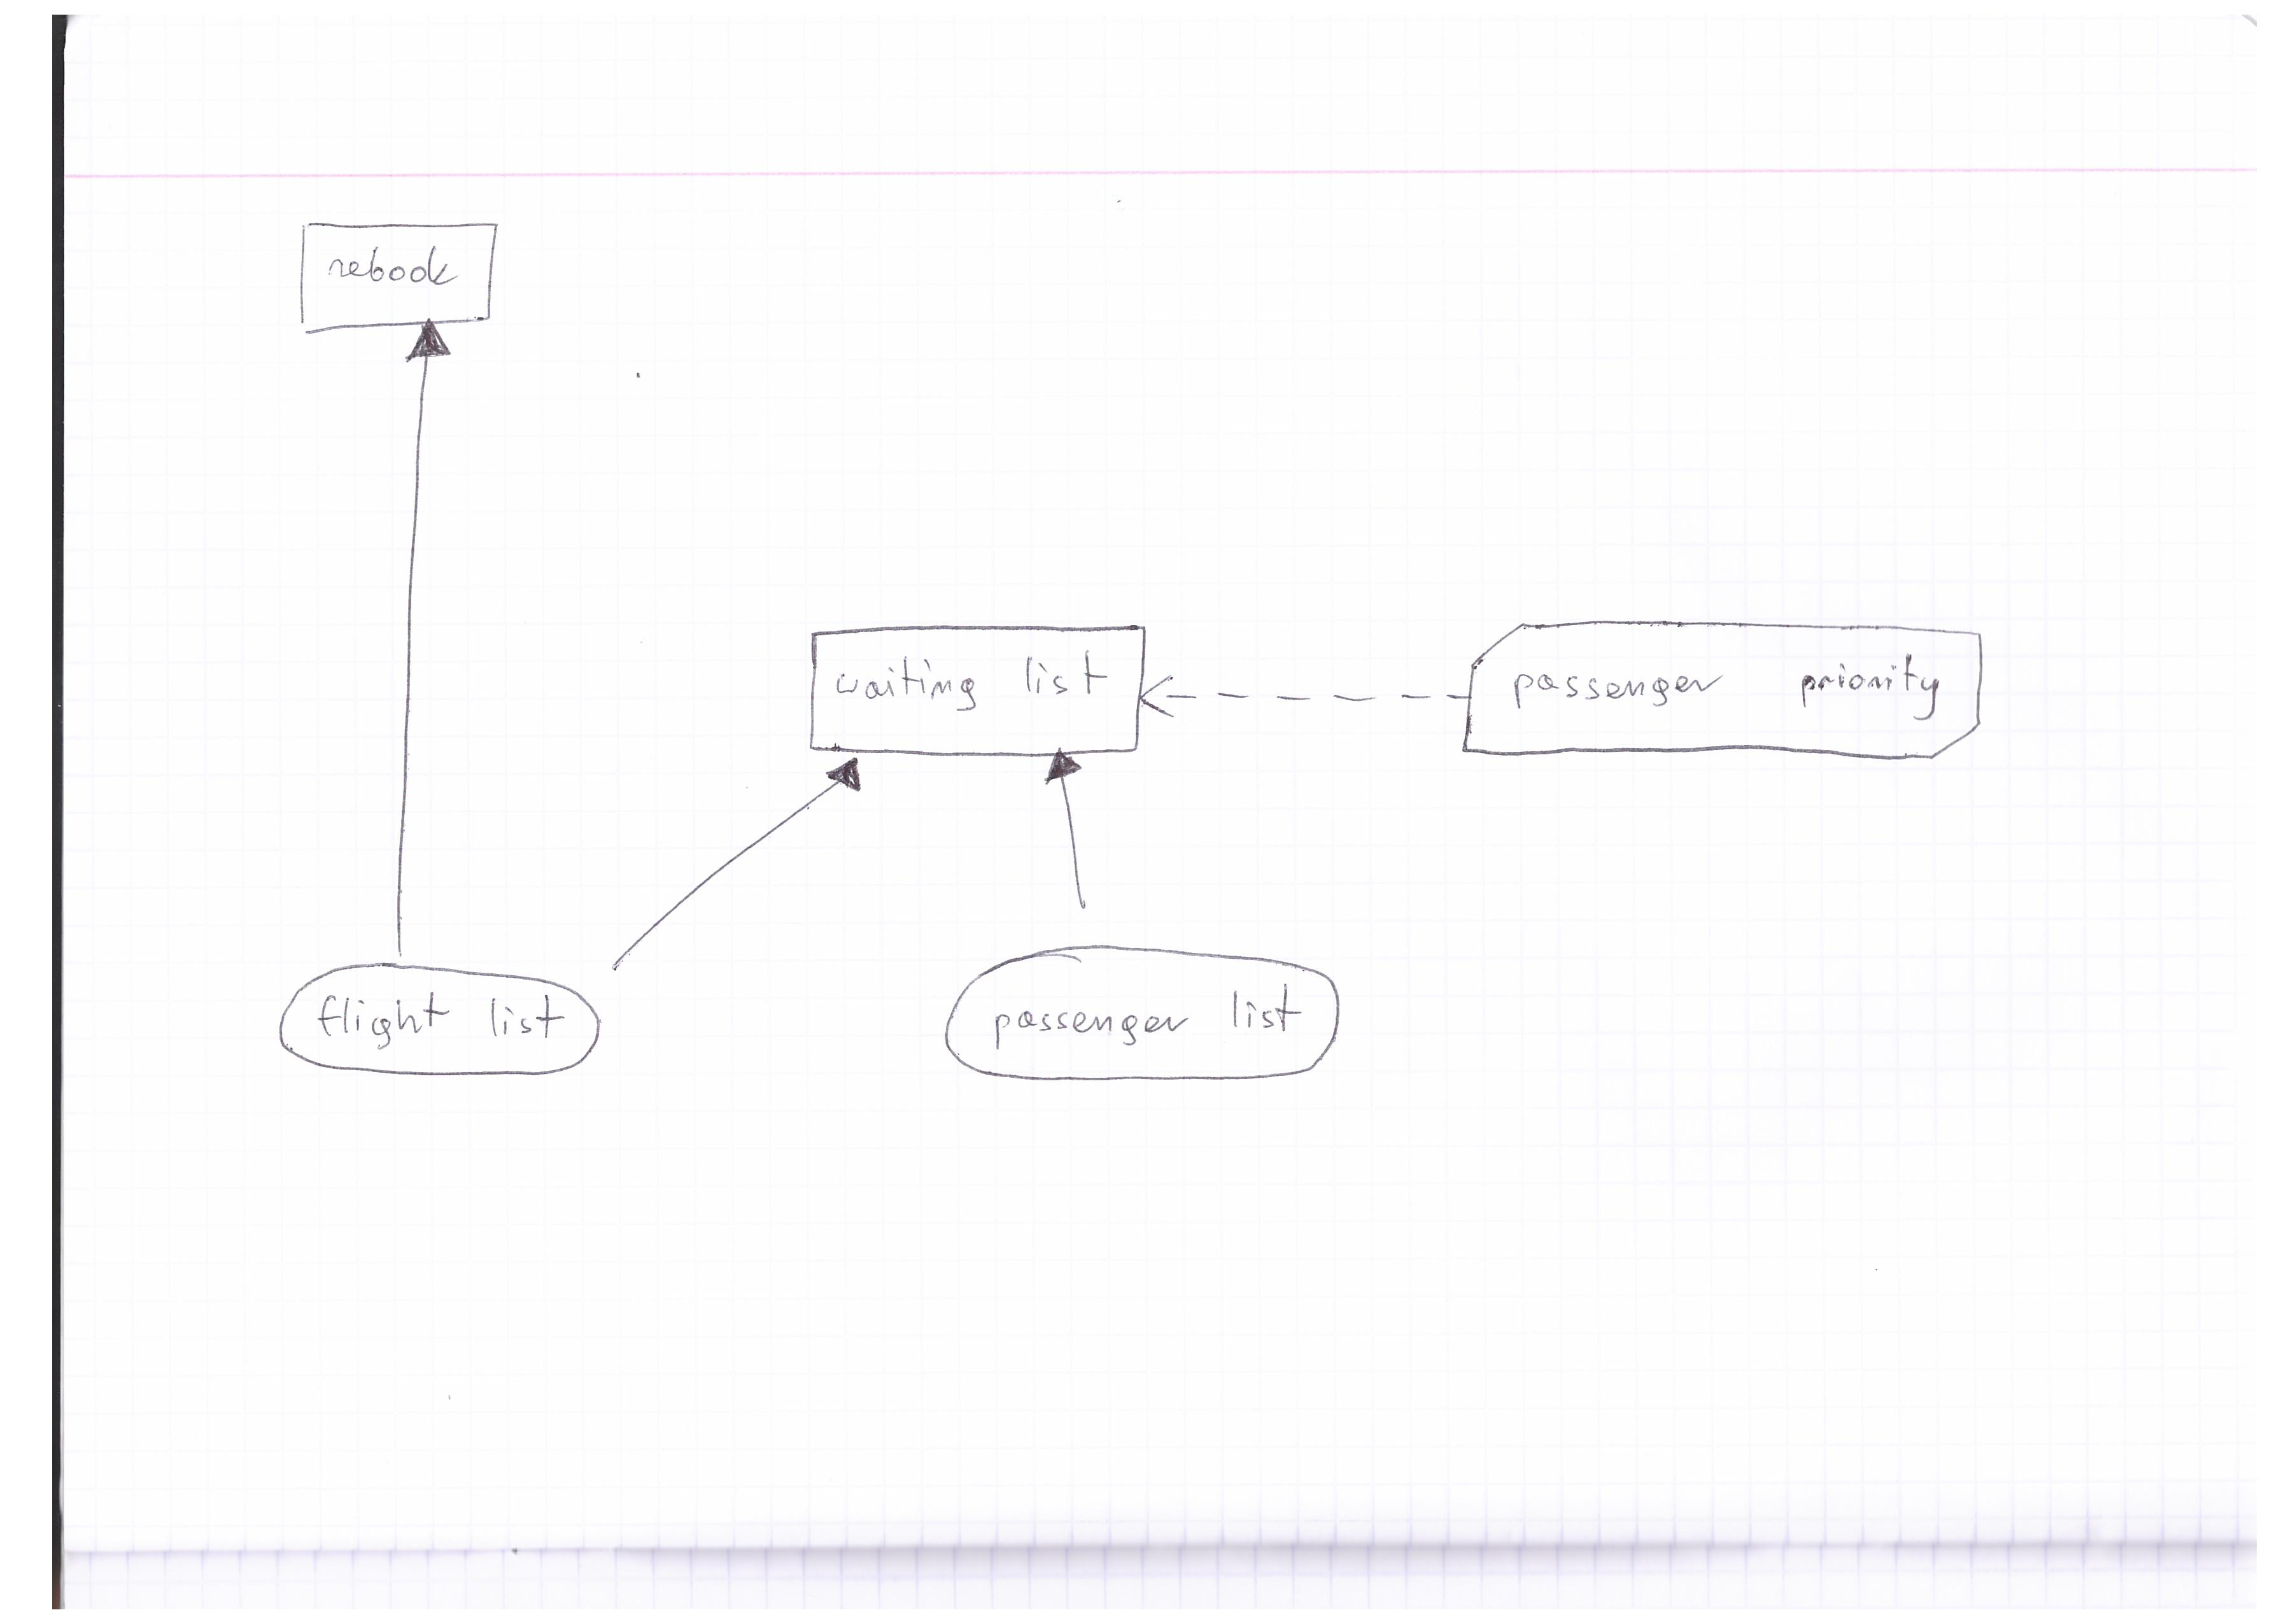arrow_information_requirement: (592, 756, 873, 984), (367, 308, 460, 958), (1033, 742, 1102, 926)
arrow_knowledge_requirement: (1135, 664, 1476, 731)
node_decision: (800, 617, 1146, 763), (285, 214, 504, 339)
node_input_data: (928, 932, 1357, 1093), (267, 961, 613, 1098)
node_knowledge_model: (1458, 612, 2014, 777)
text: (1509, 649, 1956, 729), (989, 979, 1309, 1058), (824, 645, 1119, 721), (313, 986, 569, 1062), (320, 232, 467, 295)
